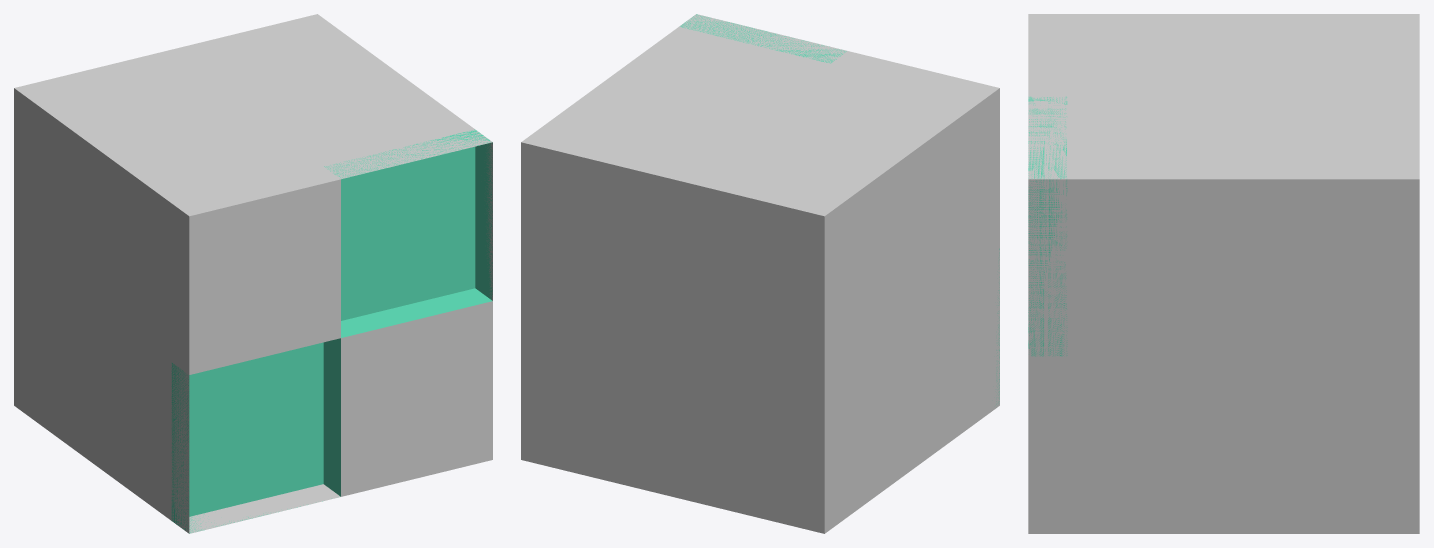
Rendered from Wall4_1x1.fbx.
3 renders of one model, left to right at view 1: azimuth 30°, elevation 25°; view 2: azimuth 150°, elevation 25°; view 3: azimuth 270°, elevation 25°, orthographic. The views are drawn at different scales.
Parts seen in each view (by area): view 1: Wall4 1x1; view 2: Wall4 1x1; view 3: Wall4 1x1.
Part boxes in pixels (bbox=[...]): Wall4 1x1: bbox=[14, 14, 492, 533]; Wall4 1x1: bbox=[521, 14, 999, 533]; Wall4 1x1: bbox=[1028, 14, 1419, 533].
Bounding box in the file's own units: 100 × 100 × 100.
